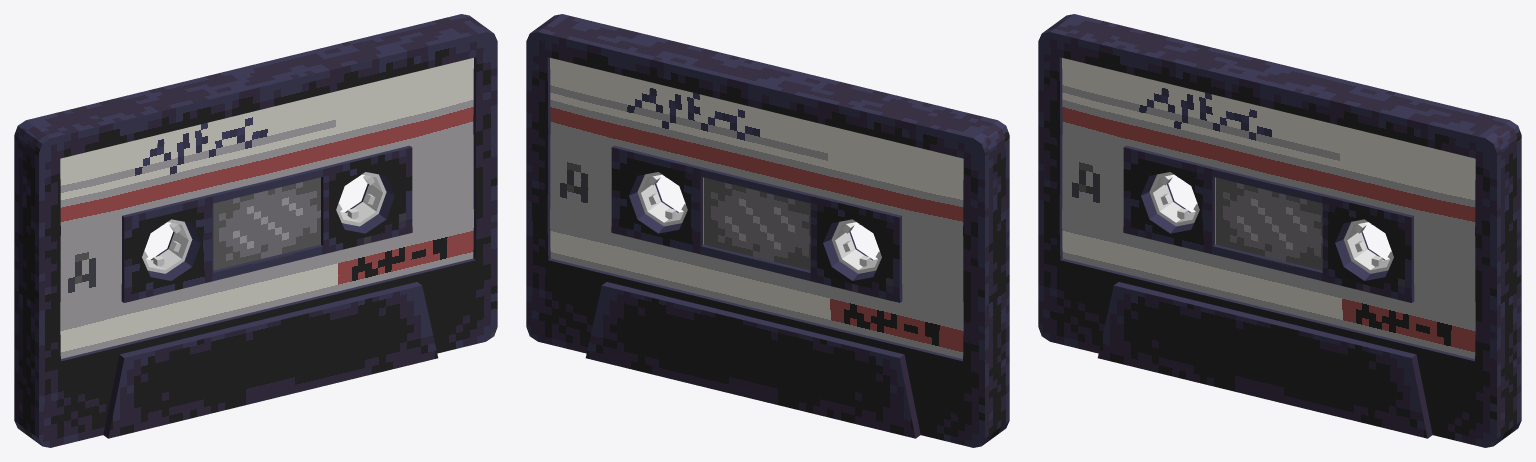
File: cassette_tape.glb
3 renders of one model, left to right at view 1: azimuth 30°, elevation 25°; view 2: azimuth 150°, elevation 25°; view 3: azimuth 330°, elevation 25°, orthographic.
Parts seen in each view (by area): view 1: Cassette.002, Spool_L.001, Spool_R.001; view 2: Cassette.002, Spool_R.001, Spool_L.001; view 3: Cassette.002, Spool_R.001, Spool_L.001.
Boxes of the visible parts, x1=… form: Cassette.002: x1=14, y1=14, x2=497, y2=447; Spool_L.001: x1=336, y1=172, x2=386, y2=226; Spool_R.001: x1=142, y1=219, x2=192, y2=273; Cassette.002: x1=526, y1=14, x2=1009, y2=447; Spool_R.001: x1=831, y1=219, x2=881, y2=273; Spool_L.001: x1=637, y1=172, x2=687, y2=226; Cassette.002: x1=1038, y1=14, x2=1521, y2=447; Spool_R.001: x1=1149, y1=172, x2=1199, y2=226; Spool_L.001: x1=1343, y1=219, x2=1393, y2=273.
Bounding box in the file's own units: 3.61 × 2.33 × 0.4722.
Materials: 2 (1 with a texture image).
